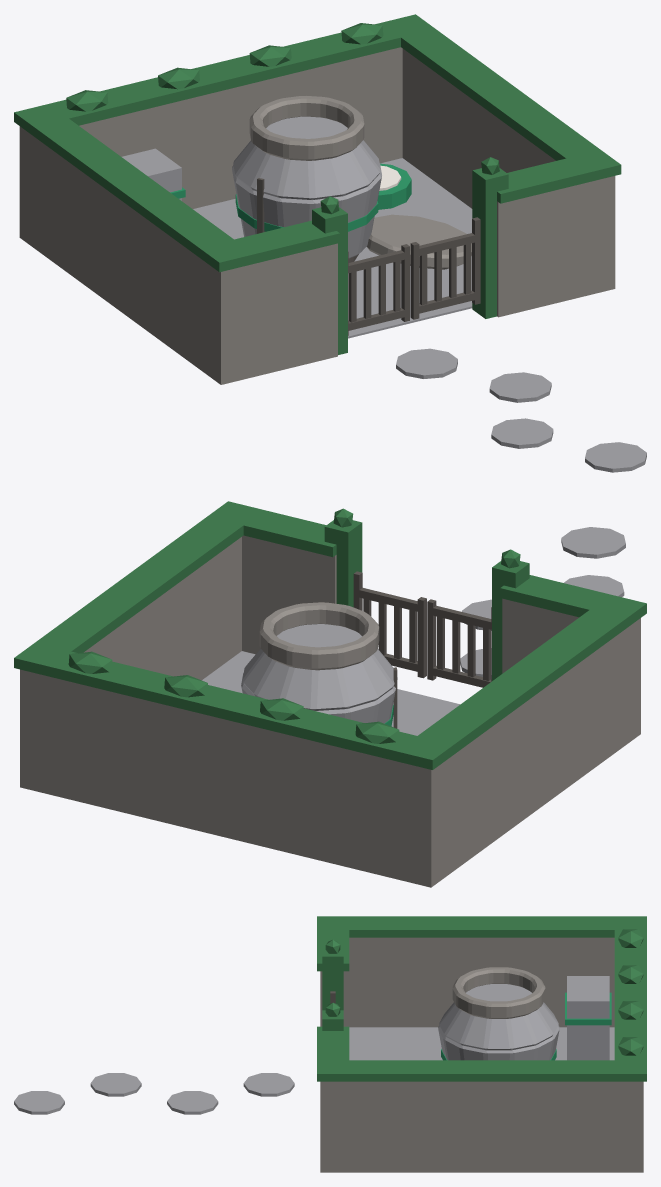
Rendered from CatCafe_Nook_Ruins.glb.
3 views of the same model, one above another, from view 1: azimuth 30°, elevation 25°; view 2: azimuth 150°, elevation 25°; view 3: azimuth 270°, elevation 25° (orthographic). The views are drawn at different scales.
Visible parts, largest first — view 1: CatCafe_Nook_Ruins, CatCafe_Nook_Ruins_Trap, CatCafe_Nook_Ruins_Decor, CatCafe_Nook_Ruins_GateL, CatCafe_Nook_Ruins_GateR; view 2: CatCafe_Nook_Ruins, CatCafe_Nook_Ruins_Trap, CatCafe_Nook_Ruins_Decor, CatCafe_Nook_Ruins_GateR, CatCafe_Nook_Ruins_GateL; view 3: CatCafe_Nook_Ruins, CatCafe_Nook_Ruins_Trap, CatCafe_Nook_Ruins_Decor.
Part boxes in pixels (x1,y1,x2,y2): CatCafe_Nook_Ruins: (14, 14, 621, 384); CatCafe_Nook_Ruins_Trap: (232, 96, 471, 269); CatCafe_Nook_Ruins_Decor: (193, 158, 646, 472); CatCafe_Nook_Ruins_GateL: (410, 217, 480, 319); CatCafe_Nook_Ruins_GateR: (348, 244, 409, 335); CatCafe_Nook_Ruins: (14, 501, 646, 887); CatCafe_Nook_Ruins_Trap: (241, 602, 397, 728); CatCafe_Nook_Ruins_Decor: (202, 527, 625, 735); CatCafe_Nook_Ruins_GateR: (427, 599, 491, 687); CatCafe_Nook_Ruins_GateL: (353, 571, 426, 678); CatCafe_Nook_Ruins: (317, 916, 646, 1172); CatCafe_Nook_Ruins_Trap: (438, 967, 559, 1060); CatCafe_Nook_Ruins_Decor: (14, 1027, 614, 1114).
Size of the model in its own units: 8.76 by 3.37 by 14.88.
Materials: 1 (1 with a texture image).
